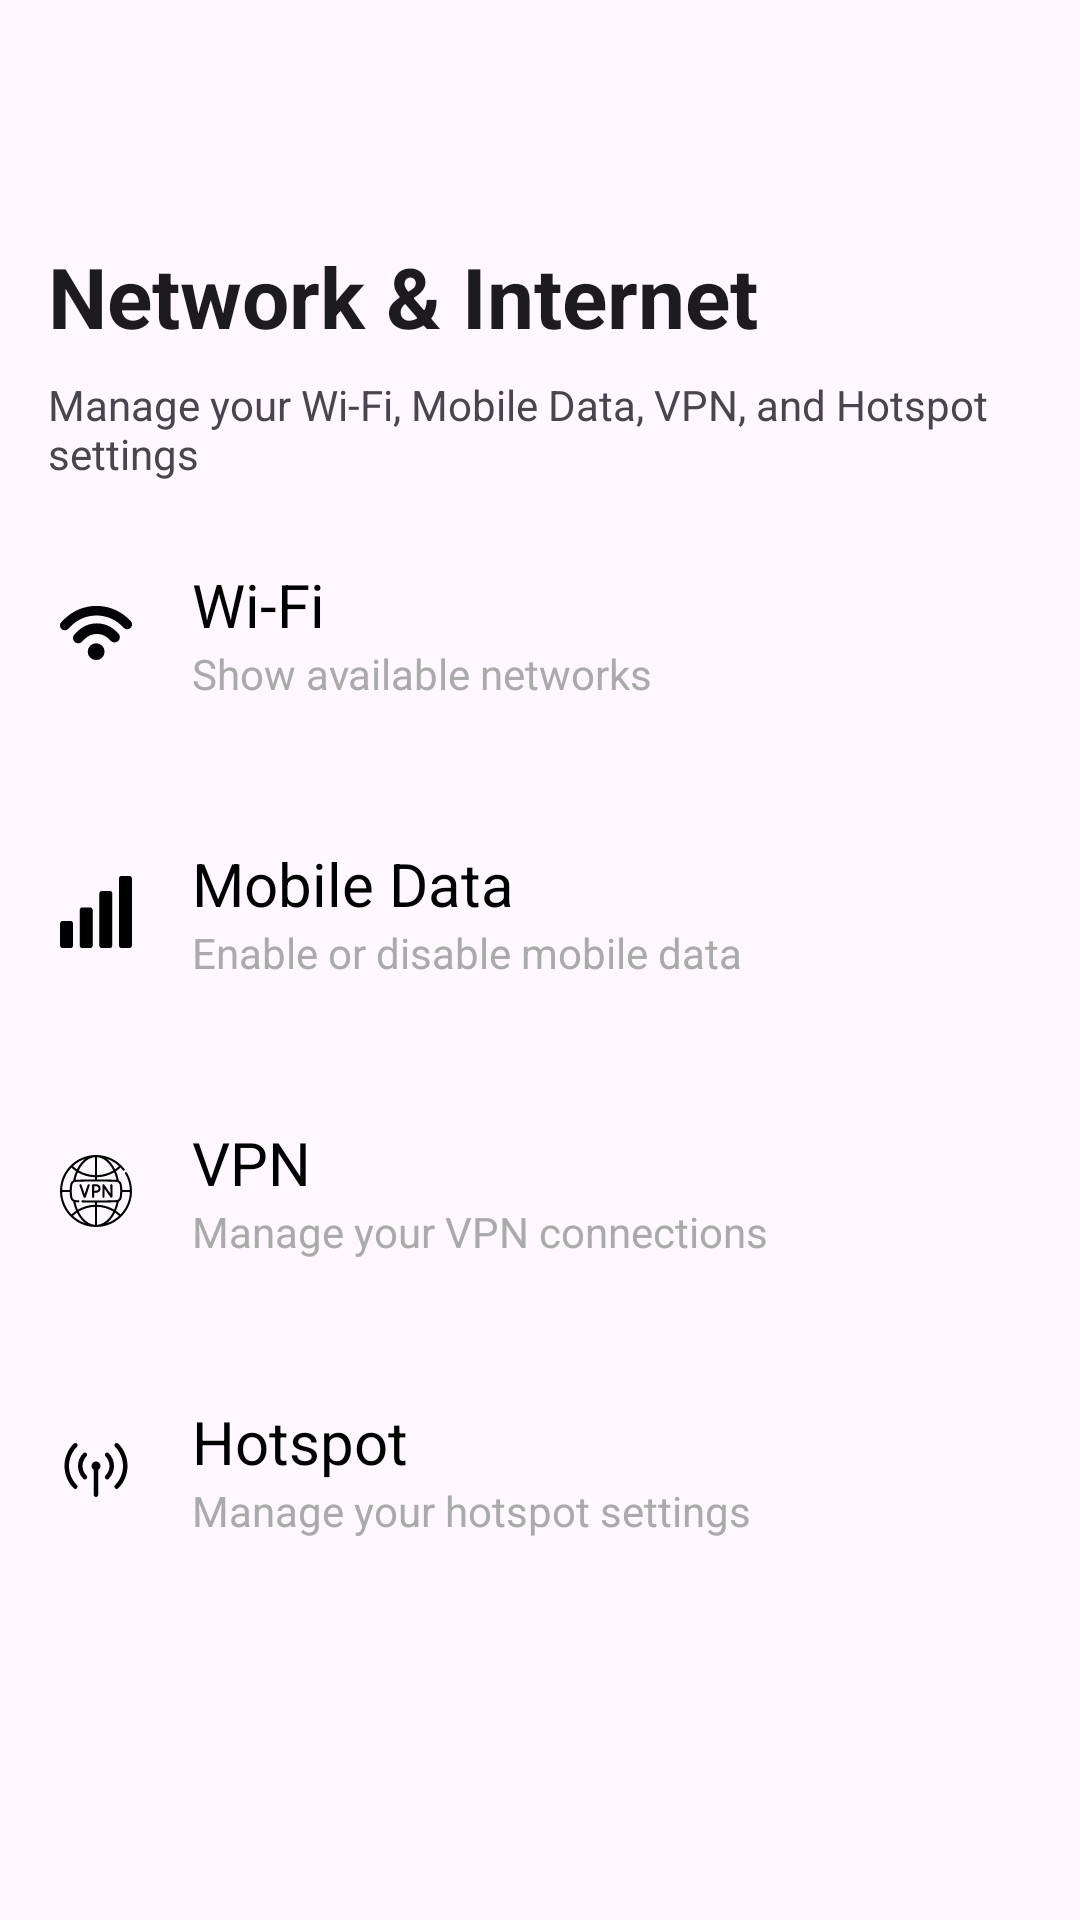

Icon click points for this 1080x1920 phone screenshot, format (x,y):
signal: (96,912)
